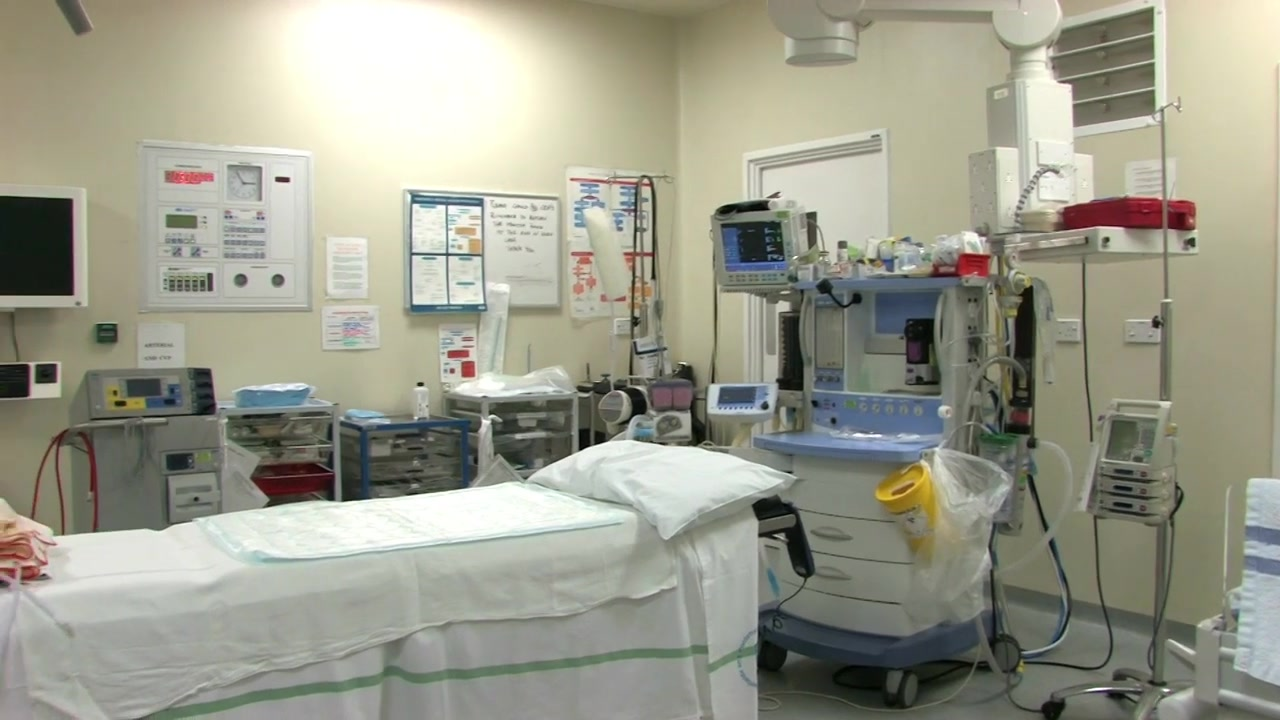bedside_monitor: (714, 208, 796, 288)
computer: (1, 187, 86, 312)
exam_table: (1, 440, 820, 720)
handle: (806, 563, 852, 591), (804, 525, 851, 551)
iv_pole: (1143, 86, 1184, 720), (605, 173, 676, 385)
light_switch: (1121, 317, 1159, 345)
medical_drawer: (741, 434, 1025, 709)
syringe_pump: (1079, 399, 1178, 526)
utility_cart: (217, 397, 340, 493), (452, 377, 576, 468), (341, 411, 466, 498)
